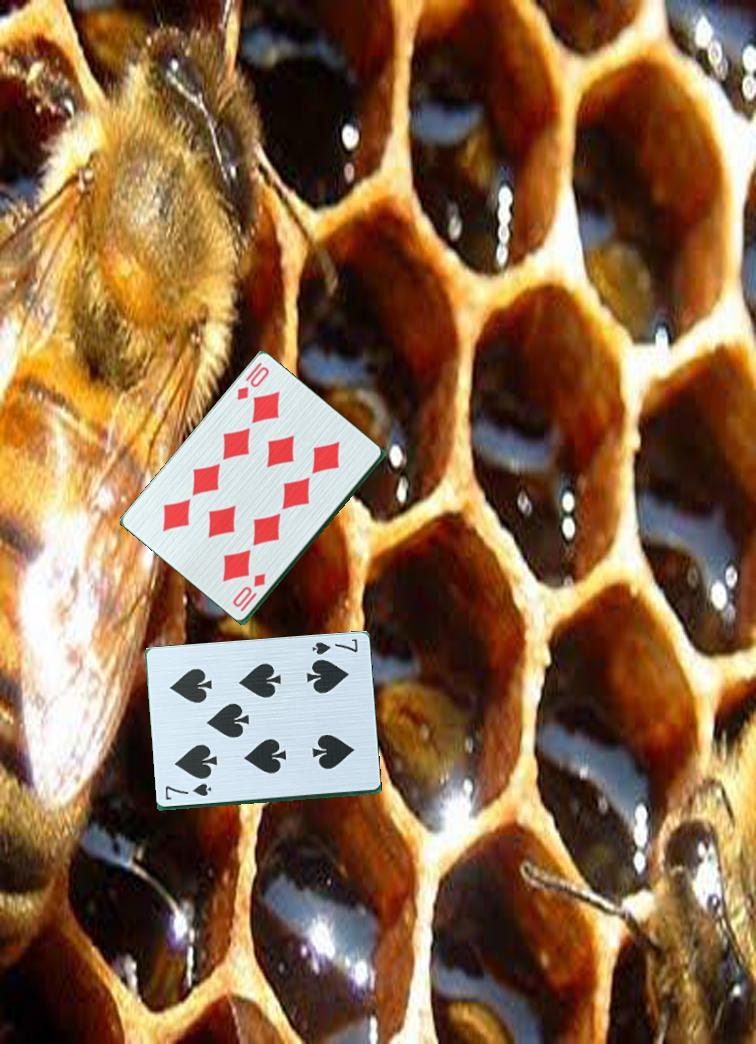7s: (309, 635, 361, 657), (162, 780, 214, 802)
td: (236, 567, 272, 614), (233, 362, 272, 403)
